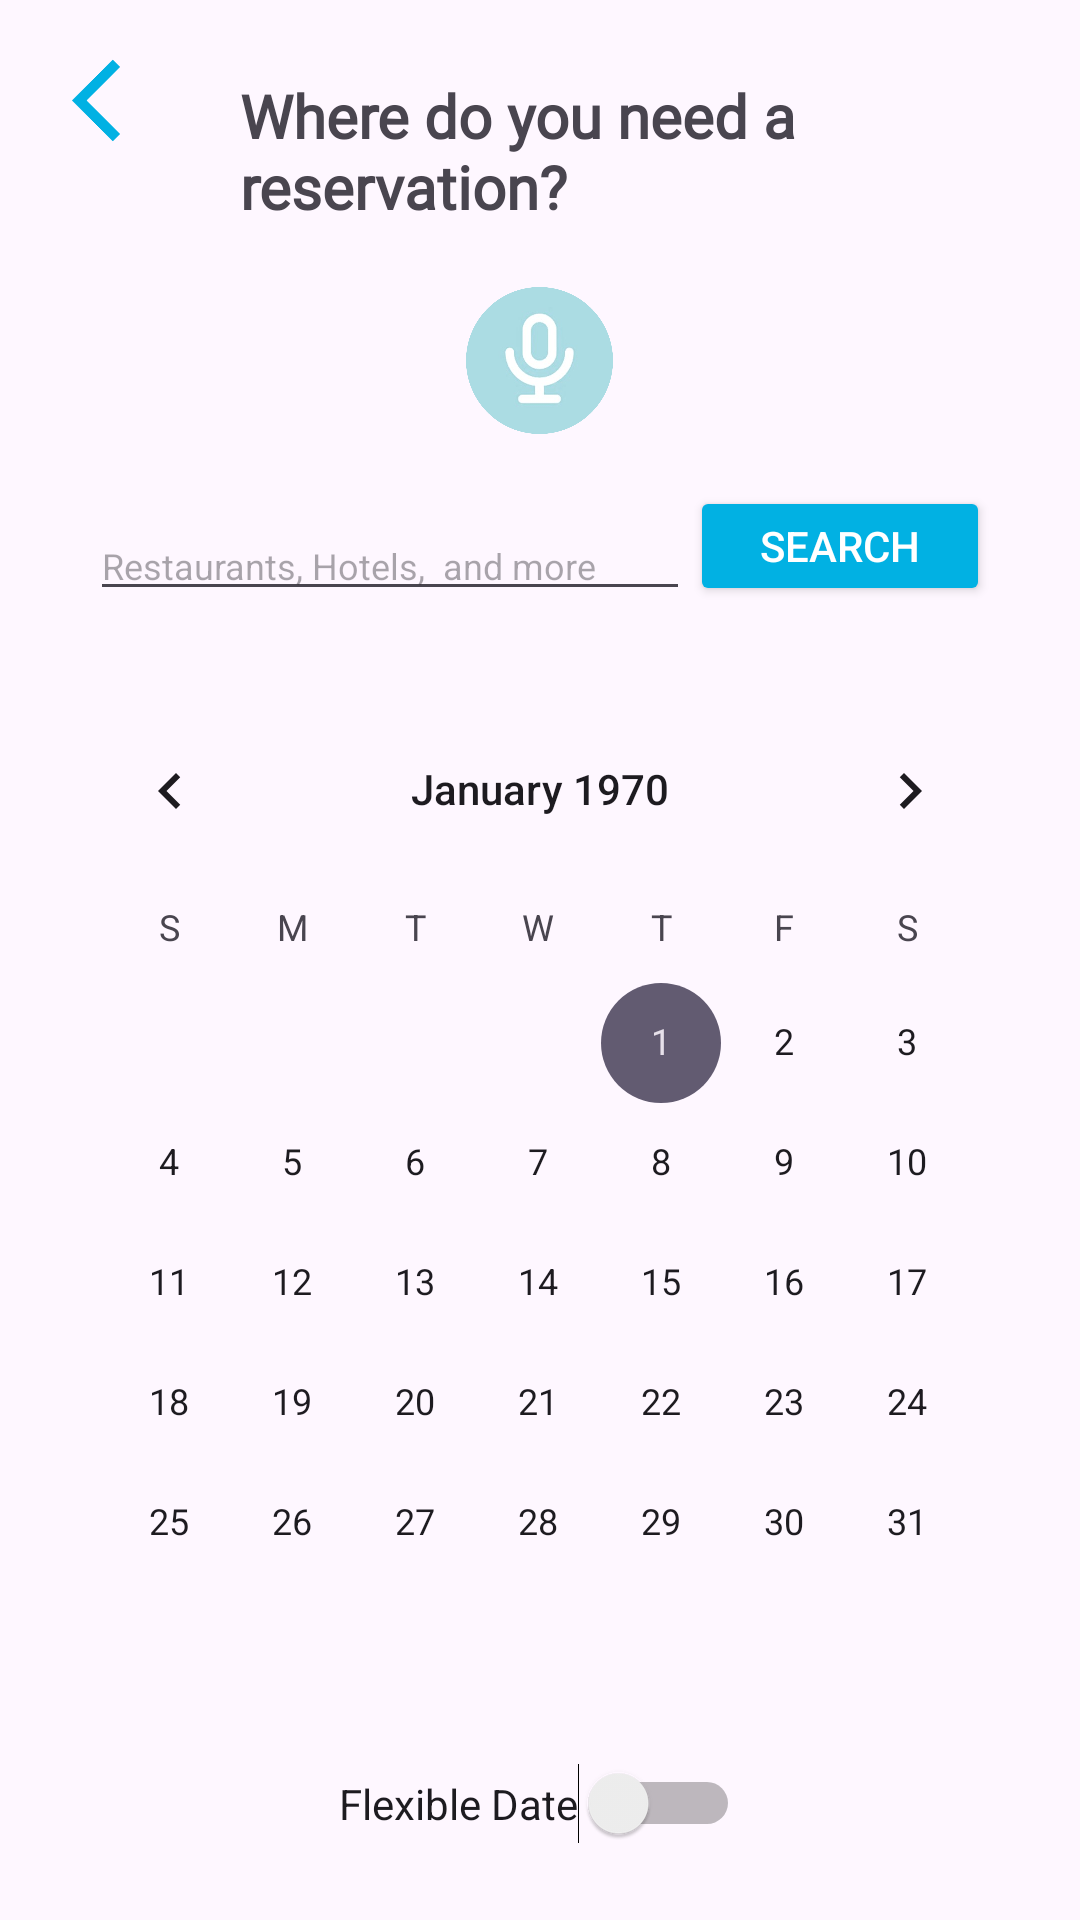

Locate icon controls on the screen. Image size 1080*1920, boxes as {"left": x1, "top": y1, "right": x2, "bottom": y2}.
back arrow: {"left": 72, "top": 60, "right": 120, "bottom": 141}
voice assistant: {"left": 466, "top": 287, "right": 613, "bottom": 434}
